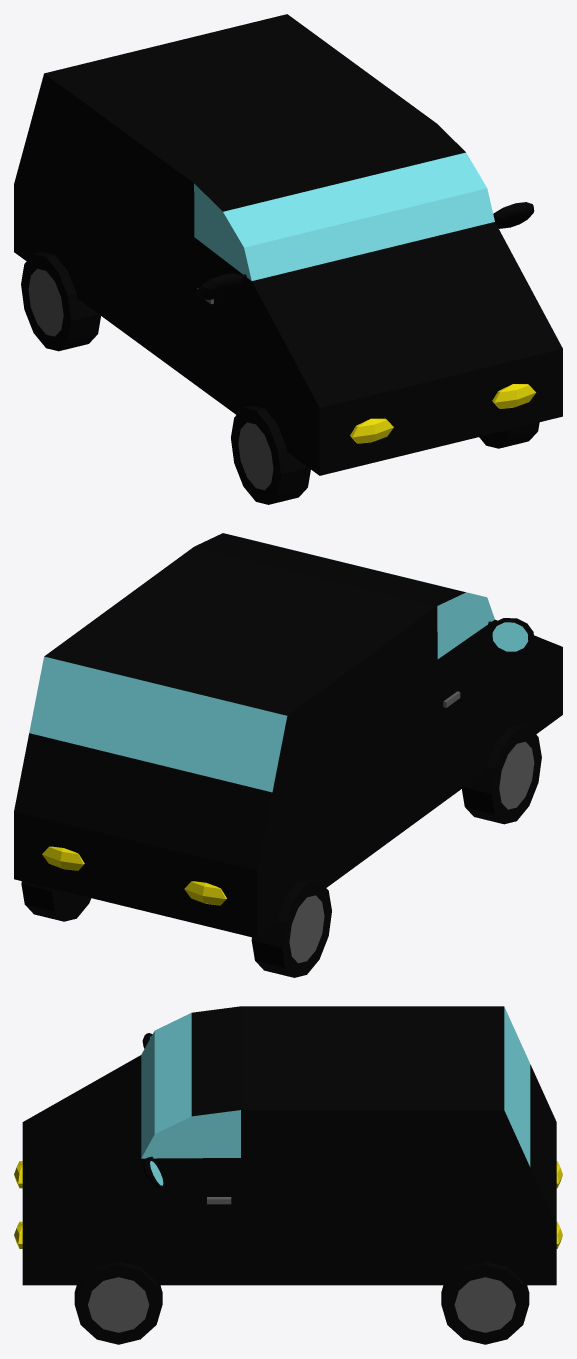
Rendered from car2.fbx.
The picture shows the model from 3 angles, top to bottom: view 1: azimuth 30°, elevation 25°; view 2: azimuth 150°, elevation 25°; view 3: azimuth 270°, elevation 25°; orthographic projection. The views are drawn at different scales.
Visible parts, largest first — view 1: Car, RBwheel, RFwheel, Mirror2, LFwheel, FLheadlight, FRheadligt, Mirror; view 2: Car, RBwheel, RFwheel, LBwheel, Mirror2, LBheadlight.001, LBheadlight; view 3: Car, LFwheel, LBwheel, Mirror.
Part boxes in pixels (left/top/right/bottom): Car: left=14, top=14, right=562, bottom=475; RBwheel: left=21, top=252, right=100, bottom=351; RFwheel: left=231, top=405, right=310, bottom=504; Mirror2: left=196, top=273, right=246, bottom=299; LFwheel: left=479, top=422, right=539, bottom=448; FLheadlight: left=350, top=418, right=393, bottom=443; FRheadligt: left=492, top=384, right=535, bottom=408; Mirror: left=493, top=202, right=534, bottom=228; Car: left=14, top=533, right=562, bottom=938; RBwheel: left=251, top=878, right=331, bottom=977; RFwheel: left=462, top=725, right=541, bottom=824; LBwheel: left=21, top=881, right=91, bottom=921; Mirror2: left=484, top=618, right=534, bottom=655; LBheadlight.001: left=184, top=881, right=226, bottom=905; LBheadlight: left=42, top=846, right=84, bottom=870; Car: left=22, top=1006, right=556, bottom=1285; LFwheel: left=74, top=1261, right=162, bottom=1344; LBwheel: left=441, top=1261, right=529, bottom=1344; Mirror: left=142, top=1156, right=165, bottom=1189.
Bounding box in the file's own units: 440 × 330 × 709.
